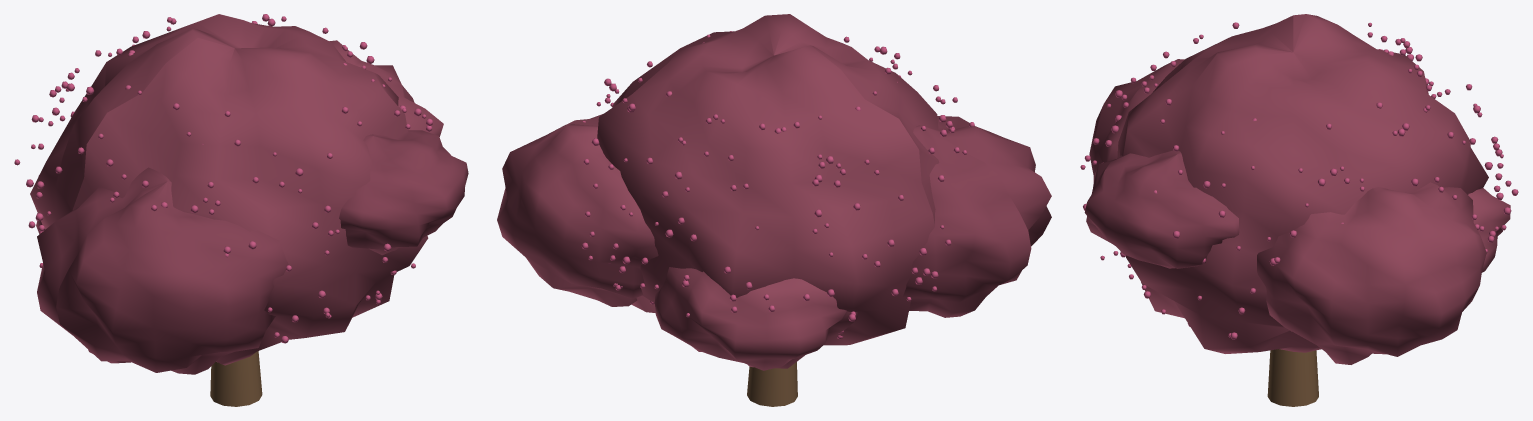
The model's file is diszalma-royalty-fa-tavasz.glb.
3 views of the same model, side by side, from view 1: azimuth 30°, elevation 25°; view 2: azimuth 150°, elevation 25°; view 3: azimuth 270°, elevation 25° (orthographic). The views are drawn at different scales.
Visible parts, largest first — view 1: korona-1, korona-2, korona-6, virag, torzs, korona-3; view 2: korona-1, korona-3, korona-2, korona-5, virag, torzs; view 3: korona-1, korona-3, korona-6, virag, korona-2, torzs, korona-5.
Part boxes in pixels (left/top/right/bottom): korona-1: left=30, top=14, right=428, bottom=365; korona-2: left=37, top=167, right=288, bottom=374; korona-6: left=339, top=130, right=468, bottom=255; virag: left=14, top=14, right=433, bottom=343; torzs: left=210, top=351, right=262, bottom=406; korona-3: left=329, top=40, right=443, bottom=136; korona-1: left=597, top=14, right=939, bottom=368; korona-3: left=497, top=114, right=658, bottom=306; korona-2: left=902, top=116, right=1051, bottom=317; korona-5: left=654, top=267, right=857, bottom=370; virag: left=581, top=31, right=974, bottom=339; torzs: left=747, top=362, right=797, bottom=406; korona-1: left=1117, top=14, right=1488, bottom=353; korona-3: left=1257, top=182, right=1486, bottom=364; korona-6: left=1084, top=150, right=1239, bottom=268; virag: left=1080, top=22, right=1518, bottom=339; korona-2: left=1089, top=59, right=1184, bottom=181; torzs: left=1267, top=349, right=1318, bottom=406; korona-5: left=1468, top=188, right=1510, bottom=272.
Bounding box in the file's own units: 7.91 × 6.32 × 6.86.
